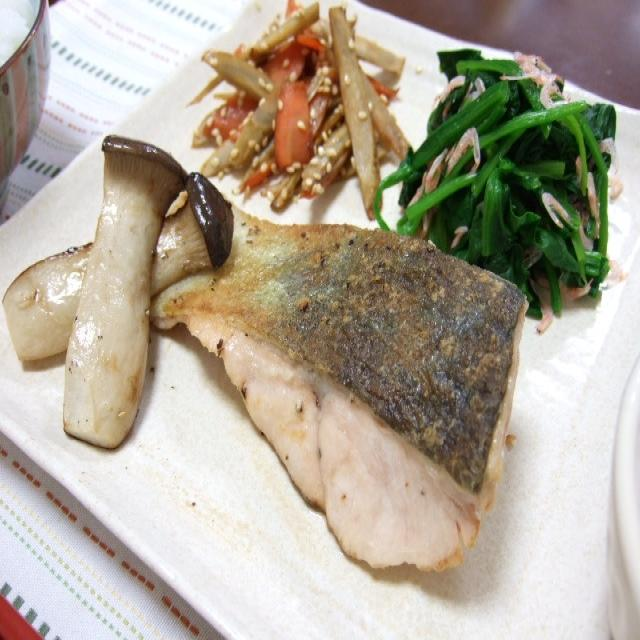熟制海鲜: (136, 168, 525, 567)
